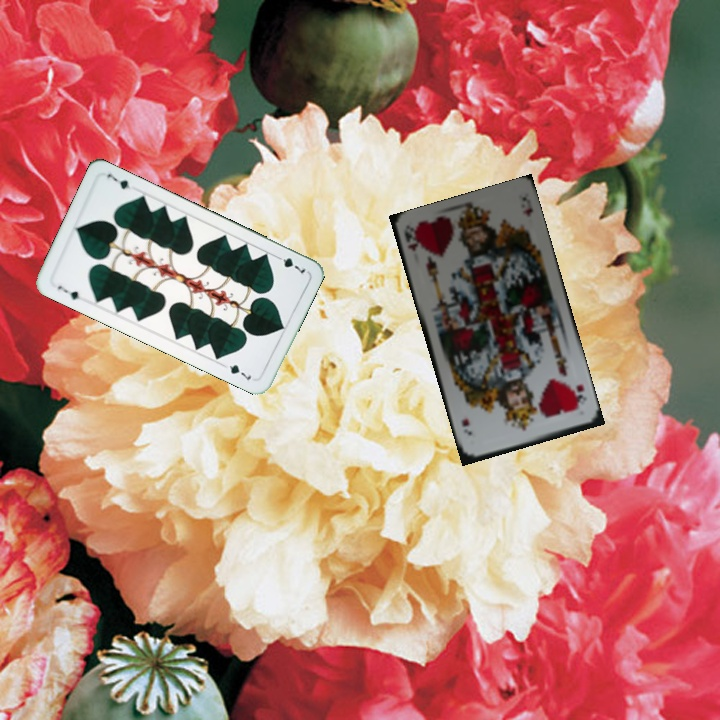G7: (271, 251, 308, 276), (53, 281, 82, 303)
HK: (569, 380, 589, 411), (400, 226, 421, 254)
